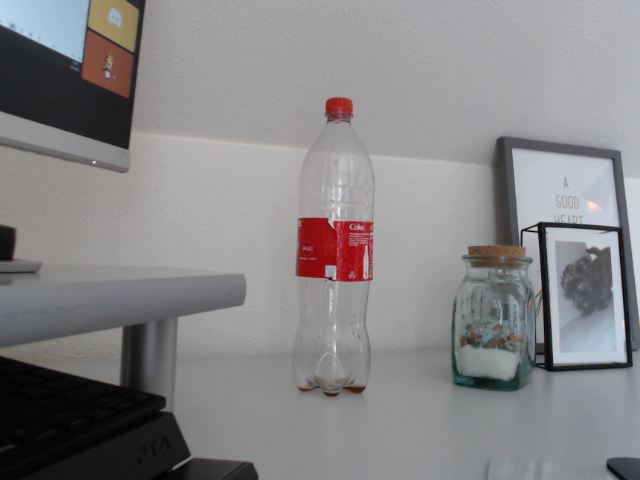bottle: (294, 95, 376, 398)
